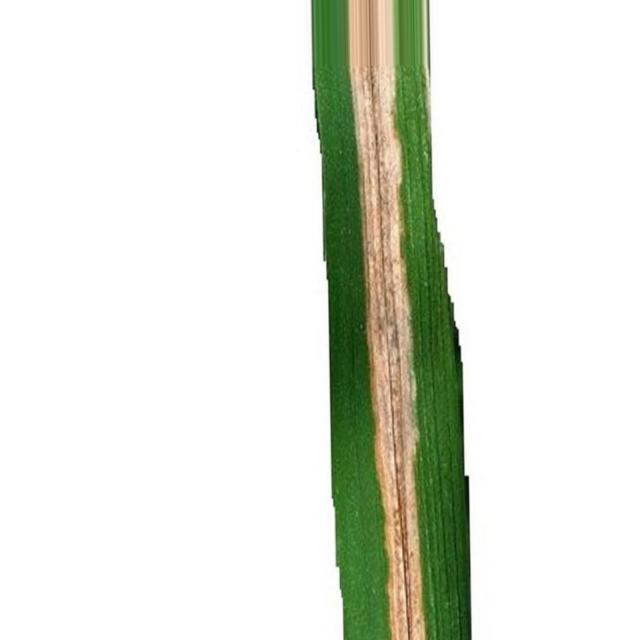Bacterial_Leaf_Blight: (348, 0, 426, 640)
